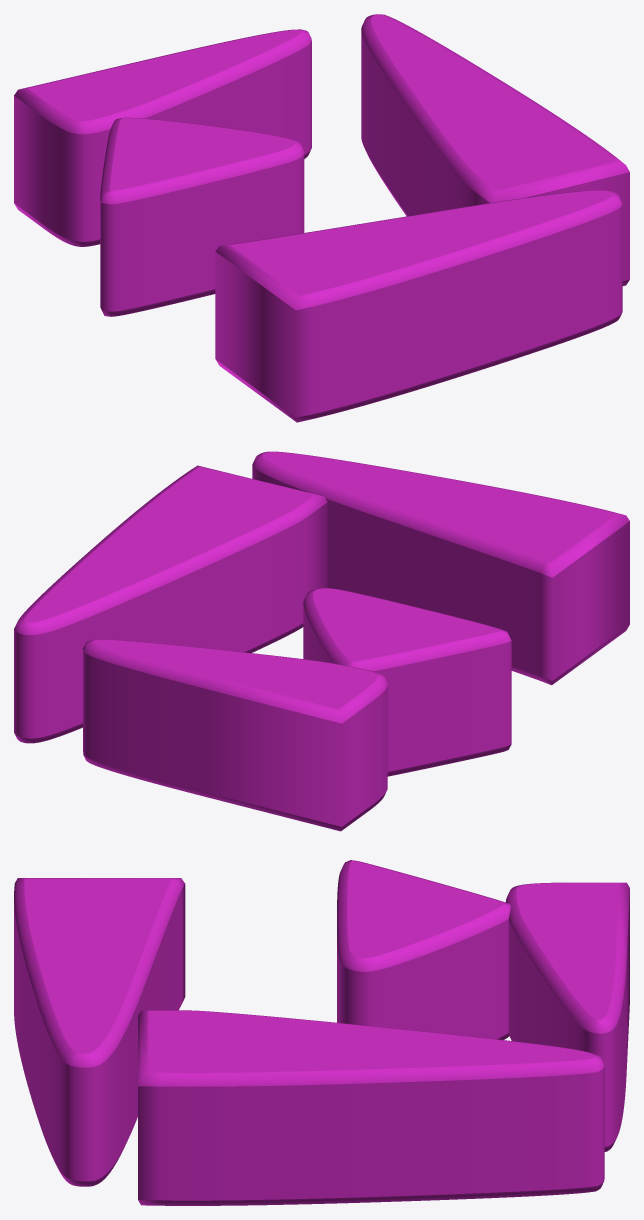
File: Letter_G.fbx
3 renders of one model, top to bottom at view 1: azimuth 30°, elevation 25°; view 2: azimuth 150°, elevation 25°; view 3: azimuth 270°, elevation 25°, orthographic. The views are drawn at different scales.
Parts seen in each view (by area): view 1: Letter_G; view 2: Letter_G; view 3: Letter_G.
Part boxes in pixels (box(x1,y1,x2,y2)): Letter_G: box(14, 14, 629, 422); Letter_G: box(14, 451, 629, 831); Letter_G: box(14, 860, 629, 1205).
Size of the model in its own units: 0.5012 by 0.14 by 0.5889.
